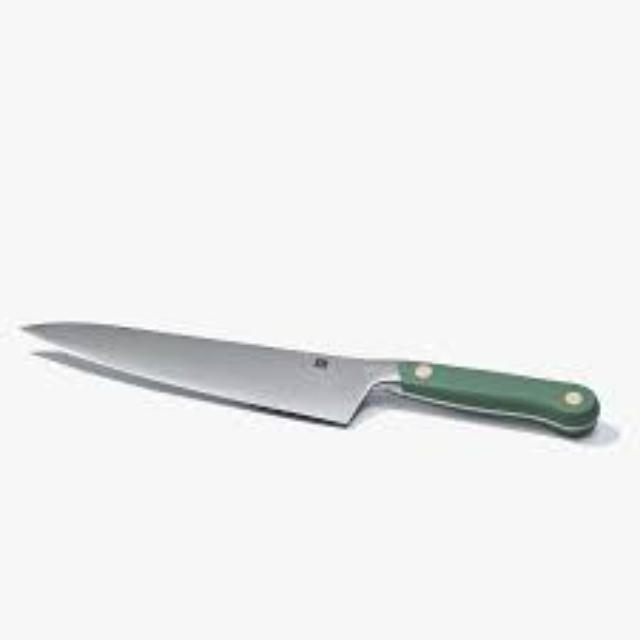Knife: (18, 316, 600, 438)
